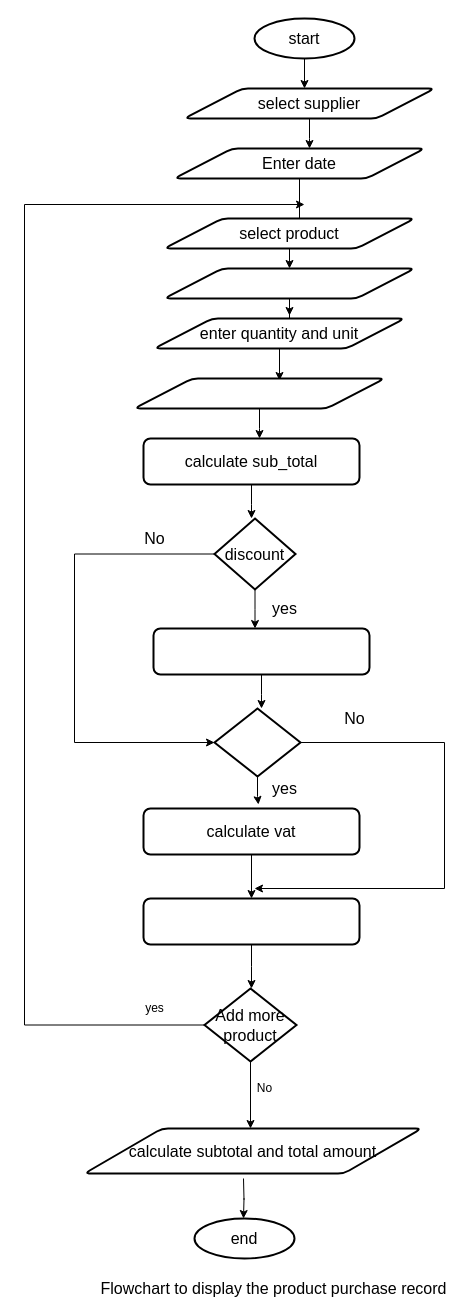
The diagram is 471 pixels wide and 1315 high, and some of its shapes have lost their labels. The shapes that lost their labels are listed below. From the top down, each one's centre as x and y in pixels, then its label:
At point 289,283: "enter order number".
At point 259,393: "Enter rate".
At point 261,651: "calculate discount".
At point 257,742: "VAT".
At point 251,921: "calculate total_amount".
